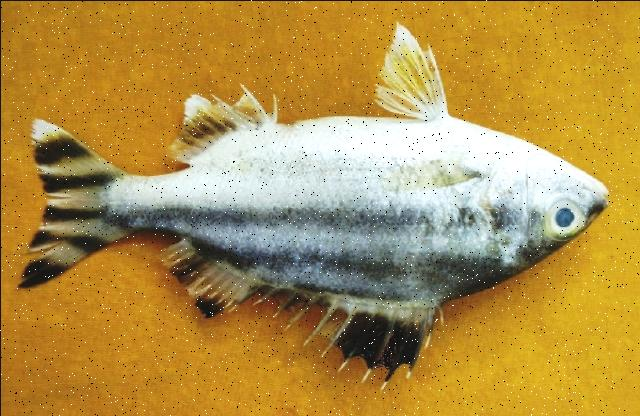Mulut: (576, 167, 614, 229)
Sirip Anal: (157, 83, 279, 168)
Sirip Dada: (346, 153, 482, 199)
Sirip Ekor: (7, 108, 133, 302)
Sirip Perut: (367, 13, 453, 128)
Sirip Punggung: (152, 235, 448, 400)
